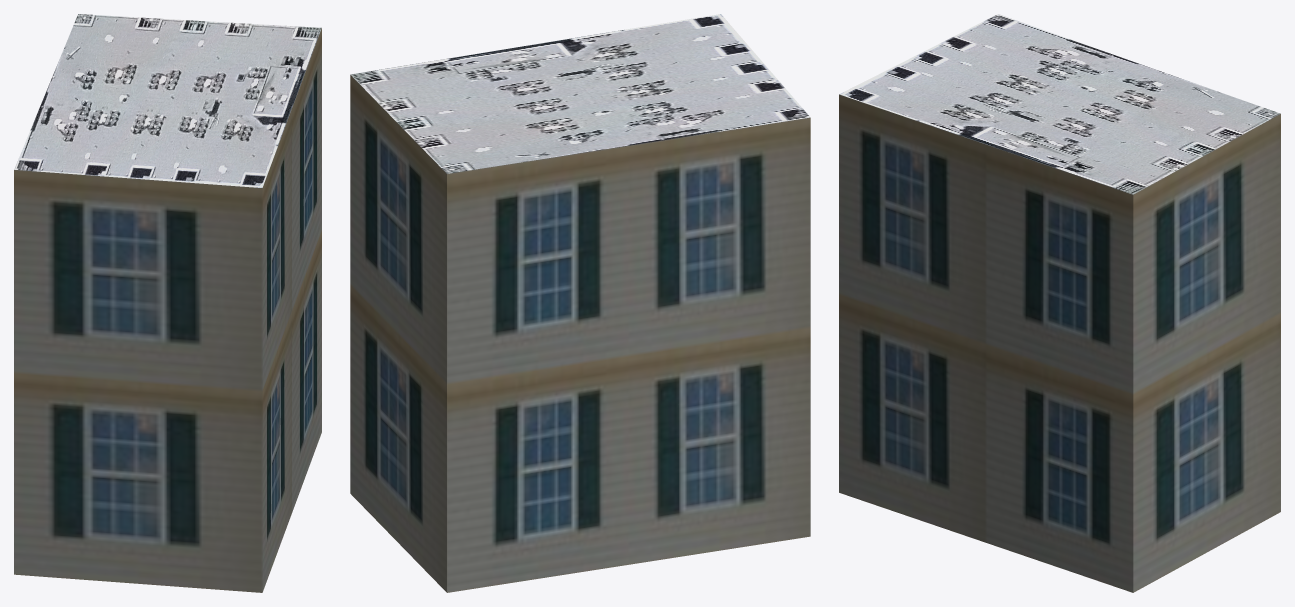
Rendered from ResTex__1166.fbx.
3 views of the same model, side by side, from view 1: azimuth 30°, elevation 25°; view 2: azimuth 150°, elevation 25°; view 3: azimuth 270°, elevation 25° (orthographic). The views are drawn at different scales.
Parts seen in each view (by area): view 1: CityEngineMaterial_7_m, CityEngineMaterial_4_m; view 2: CityEngineMaterial_7_m, CityEngineMaterial_4_m; view 3: CityEngineMaterial_7_m, CityEngineMaterial_4_m.
Boxes of the visible parts, <box> form: CityEngineMaterial_7_m: <box>14,28,321,592</box>; CityEngineMaterial_4_m: <box>14,14,321,187</box>; CityEngineMaterial_7_m: <box>350,75,810,592</box>; CityEngineMaterial_4_m: <box>350,14,810,173</box>; CityEngineMaterial_7_m: <box>839,94,1280,592</box>; CityEngineMaterial_4_m: <box>839,14,1280,194</box>.
Bounding box in the file's own units: 5.84 × 6 × 6.03.
2 materials, 2 textured.
